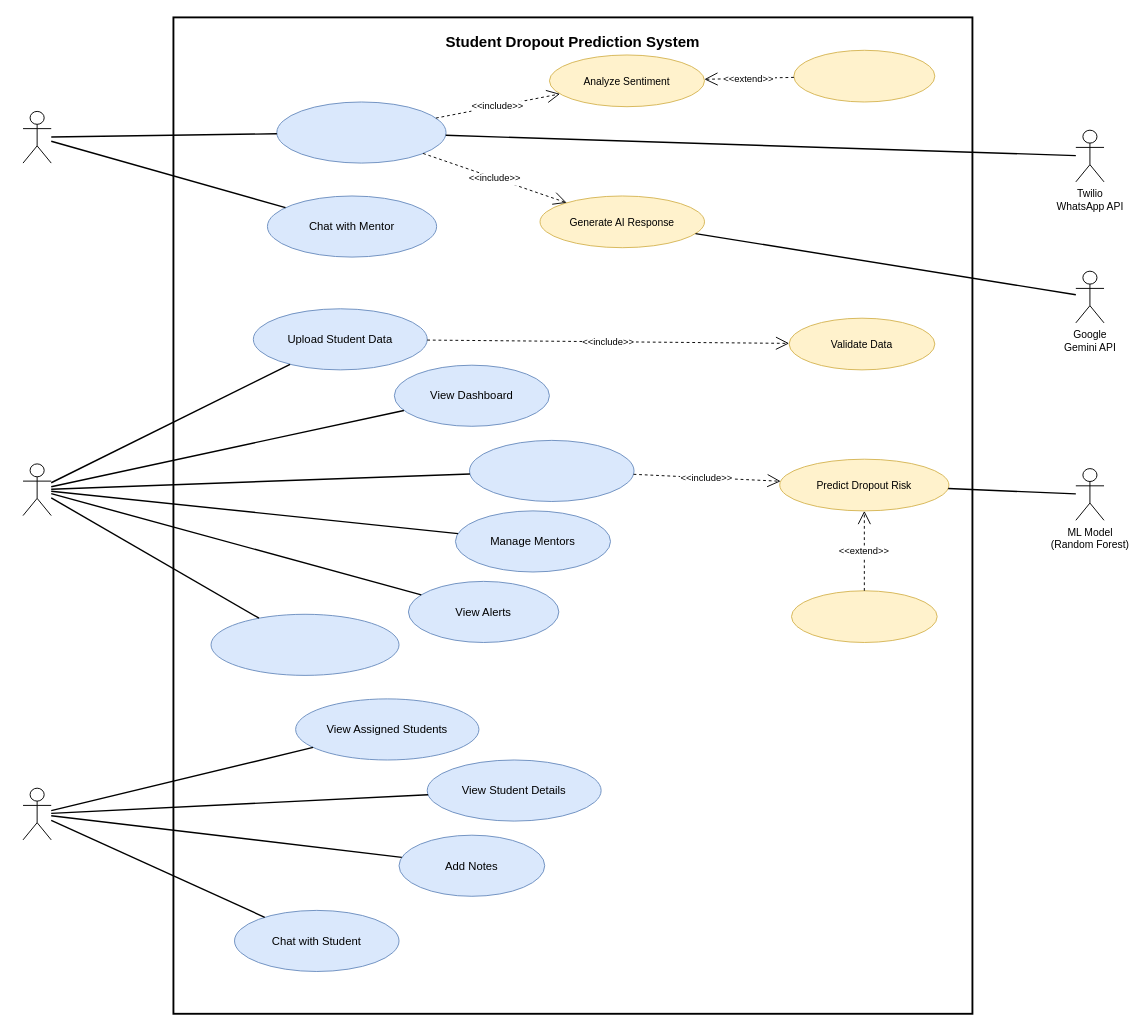
Image size: 1145x1030. Some labels were removed from this diagram. The centre of each missing label's shape, as x and y in pixels:
"Admin" goes at pixel 36 489.
"Assign Mentor to Student" goes at pixel 304 644.
"Generate Alert" goes at pixel 864 75.
"Interact with Chatbot" goes at pixel 361 132.
"Mentor" goes at pixel 36 813.
"Monitor Students" goes at pixel 551 470.
"Notify Mentor" goes at pixel 864 616.
"Student" goes at pixel 36 136.
